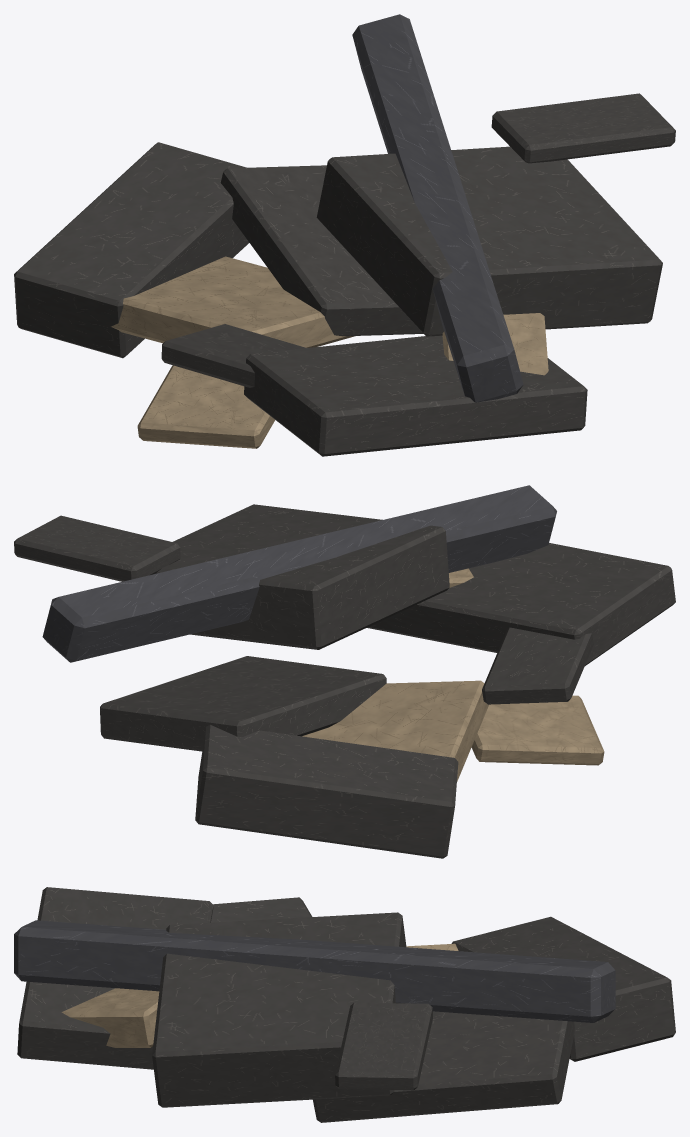
The model's file is prop_scrap_a.obj.
The picture shows the model from 3 angles, top to bottom: view 1: azimuth 30°, elevation 25°; view 2: azimuth 150°, elevation 25°; view 3: azimuth 270°, elevation 25°; orthographic projection. The views are drawn at different scales.
Visible parts, largest first — view 1: prop_scrap_a; view 2: prop_scrap_a; view 3: prop_scrap_a.
Boxes of the visible parts, x1,y1,x2,y2 form: prop_scrap_a: (14, 14, 675, 456); prop_scrap_a: (14, 485, 675, 858); prop_scrap_a: (14, 887, 675, 1122).
Bounding box in the file's own units: 1.56 × 0.5327 × 1.68.
1 material, 1 textured.
